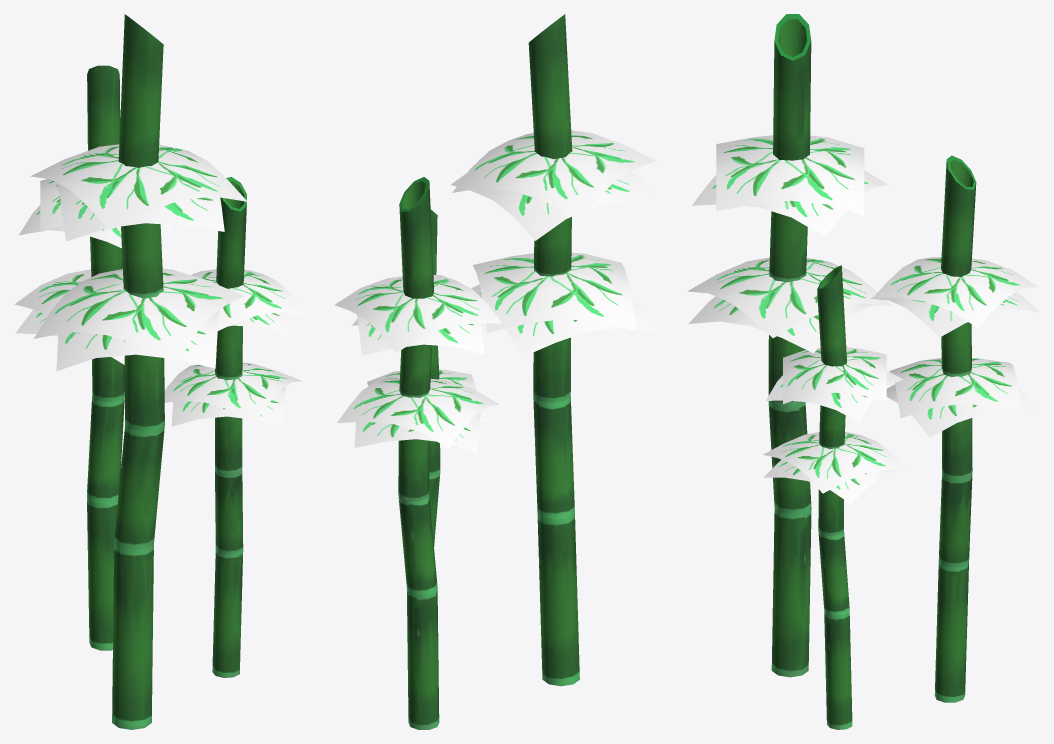
The model's file is japan_bamboo.fbx.
3 renders of one model, left to right at view 1: azimuth 30°, elevation 25°; view 2: azimuth 150°, elevation 25°; view 3: azimuth 270°, elevation 25°, orthographic. The views are drawn at different scales.
Visible parts, largest first — view 1: bamboo3; view 2: bamboo3; view 3: bamboo3.
Boxes of the visible parts, x1,y1,x2,y2 form: bamboo3: [14, 14, 305, 729]; bamboo3: [334, 14, 658, 729]; bamboo3: [687, 14, 1039, 729].
Size of the model in its own units: 71.33 by 173 by 84.43.
